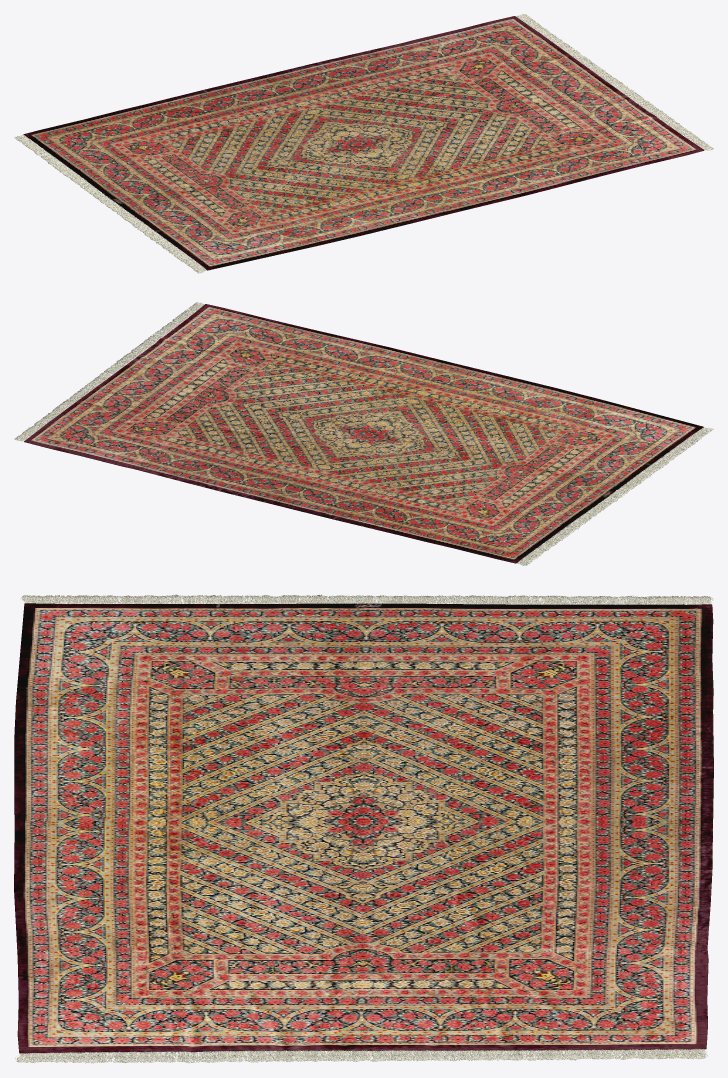
File: signed_persian_qum_carpet.glb
The picture shows the model from 3 angles, top to bottom: view 1: azimuth 30°, elevation 25°; view 2: azimuth 150°, elevation 25°; view 3: azimuth 270°, elevation 25°; orthographic projection. The views are drawn at different scales.
Parts seen in each view (by area): view 1: Signed Persian Qum Carpet_2, frange1_0, frange2_1; view 2: Signed Persian Qum Carpet_2, frange1_0, frange2_1; view 3: Signed Persian Qum Carpet_2, frange2_1, frange1_0.
Boxes of the visible parts, x1,y1,x2,y2 form: Signed Persian Qum Carpet_2: [23, 16, 704, 270]; frange1_0: [14, 135, 206, 273]; frange2_1: [516, 14, 713, 150]; Signed Persian Qum Carpet_2: [24, 304, 703, 563]; frange1_0: [517, 427, 713, 565]; frange2_1: [14, 302, 204, 441]; Signed Persian Qum Carpet_2: [14, 603, 713, 1053]; frange2_1: [15, 1048, 707, 1063]; frange1_0: [20, 594, 713, 604].
Size of the model in its own units: 3.25 by 0.0162 by 2.06.
Materials: 2 (1 with a texture image).
